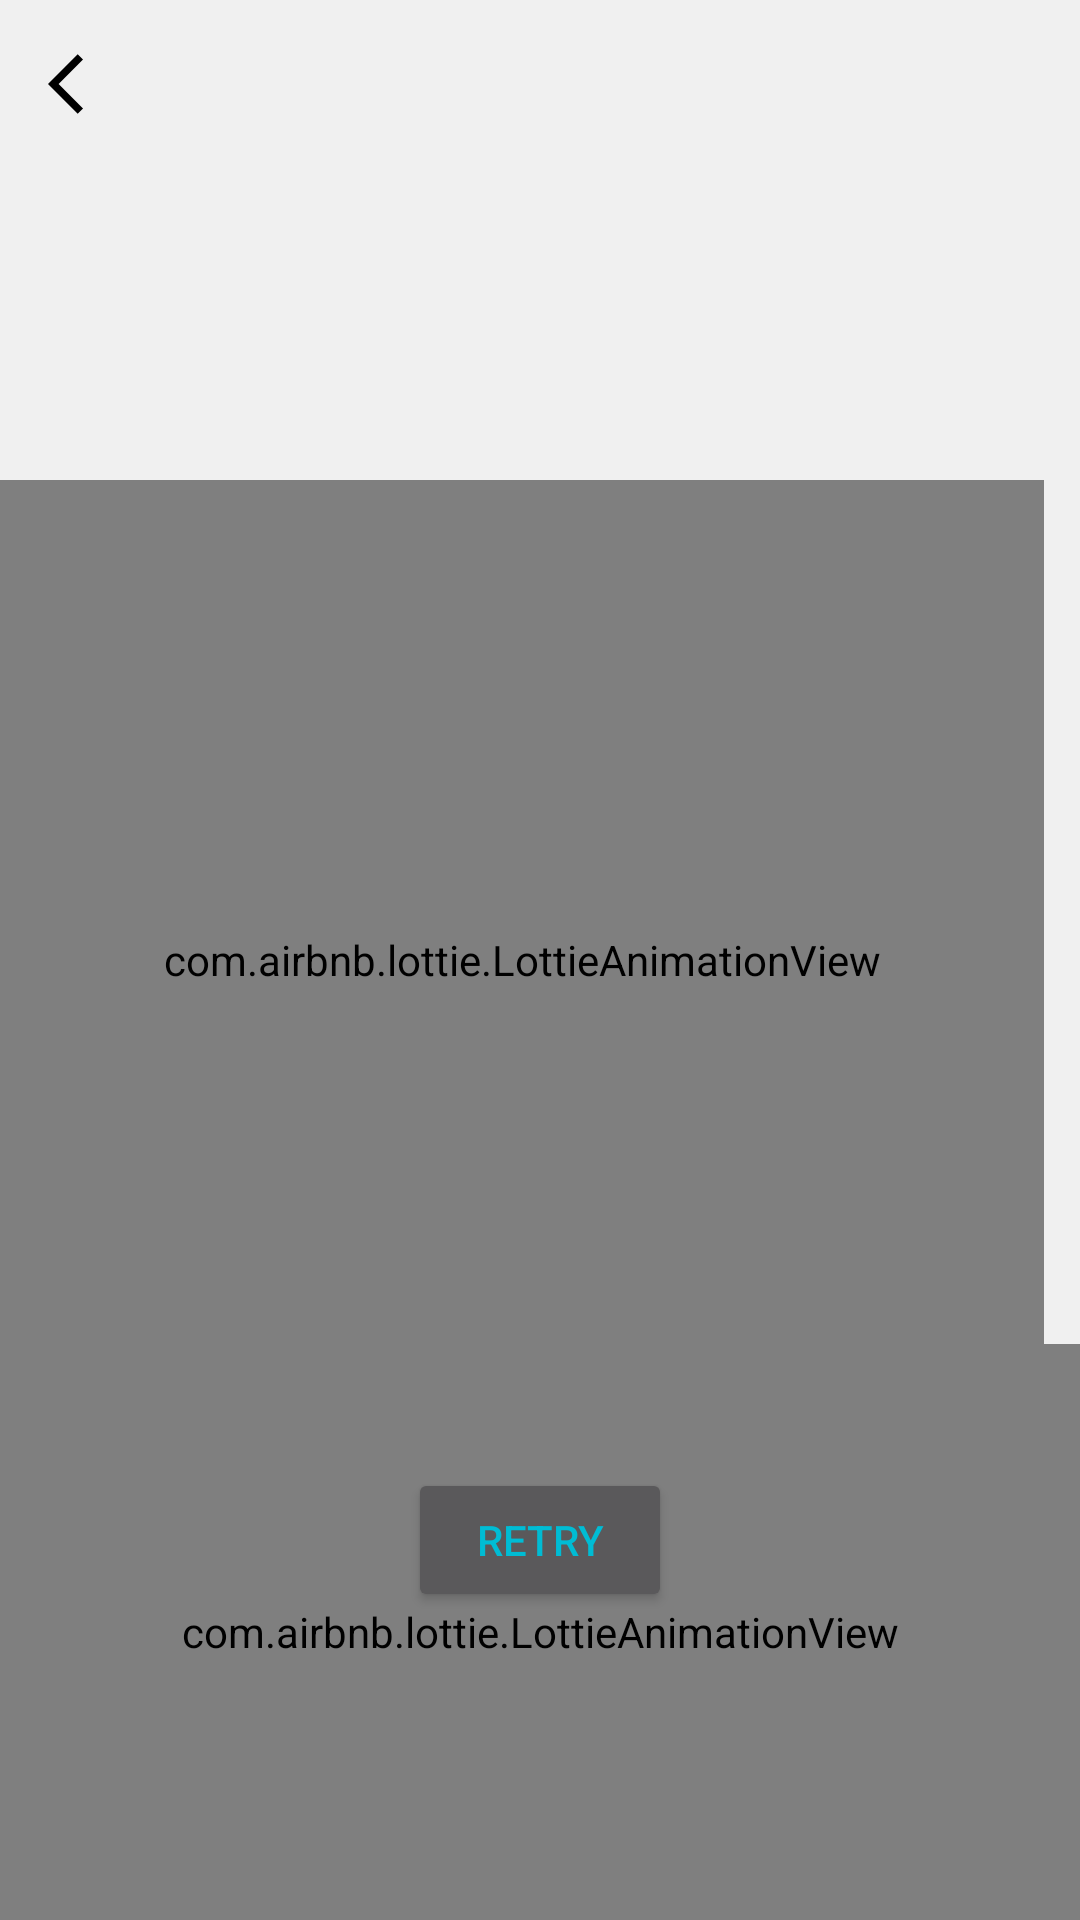

Screen size 1080 x 1920. Icon name, then its center in pixels as (x=x, y=y):
back: (x=65, y=84)
